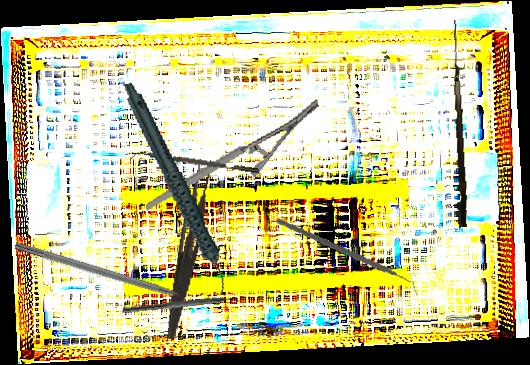Chopper: (275, 202, 419, 313), (129, 148, 260, 180), (121, 292, 247, 322)
Dressing Forceps: (163, 157, 214, 342)
Handpiece: (122, 72, 230, 306)
Hook Surgical: (13, 241, 202, 308), (444, 20, 471, 228)
Needle Holder: (131, 98, 333, 211)
